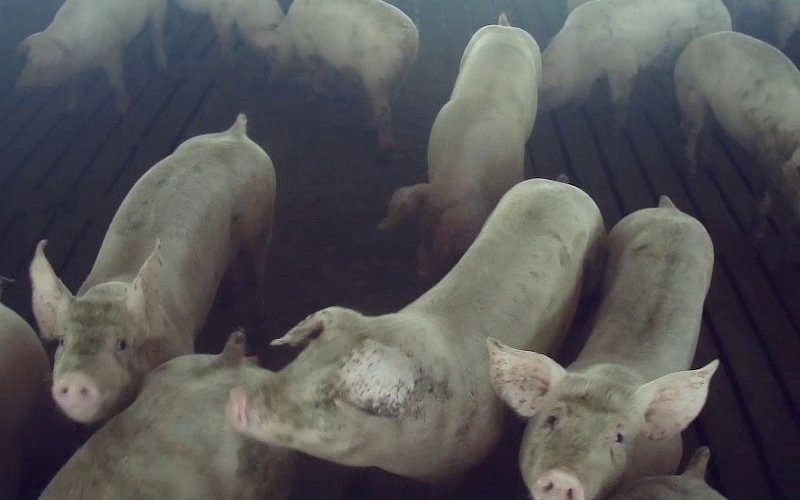pig: (232, 175, 602, 483), (30, 115, 275, 423), (489, 197, 717, 499), (41, 331, 292, 499), (381, 14, 540, 279), (674, 31, 799, 237), (254, 0, 418, 153), (541, 0, 730, 129), (16, 0, 165, 112)
